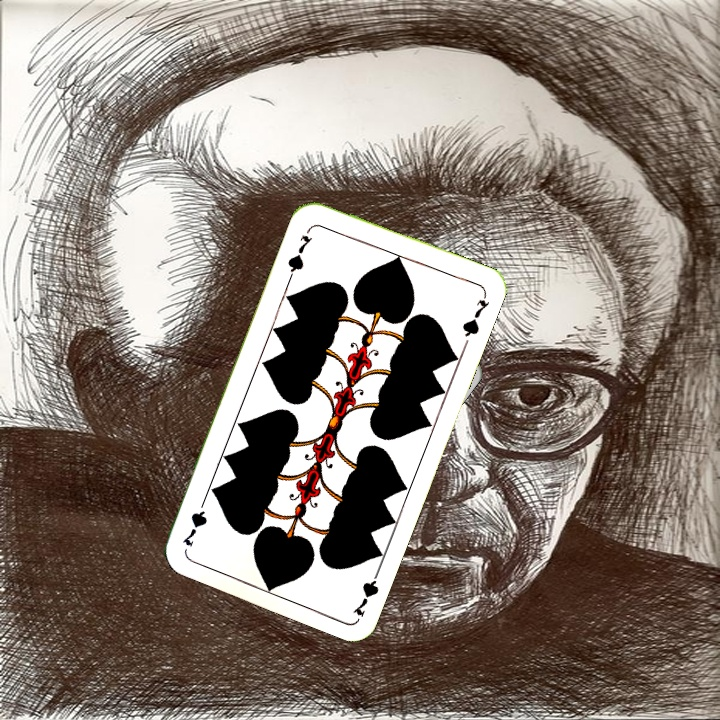G7: (349, 562, 384, 619), (283, 231, 315, 280)
